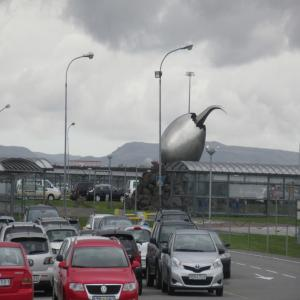Vehicle-registration-plate: (189, 274, 209, 283), (92, 294, 117, 300), (1, 278, 12, 288), (33, 276, 40, 283), (141, 261, 147, 267)
